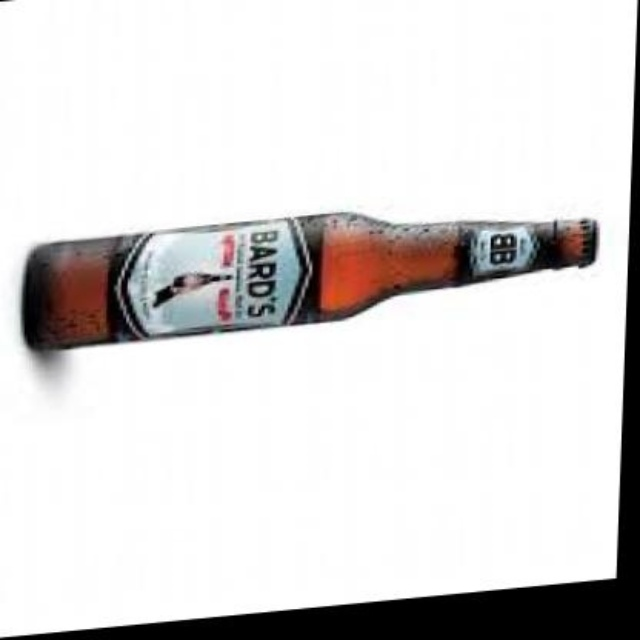trash: (23, 212, 595, 348)
